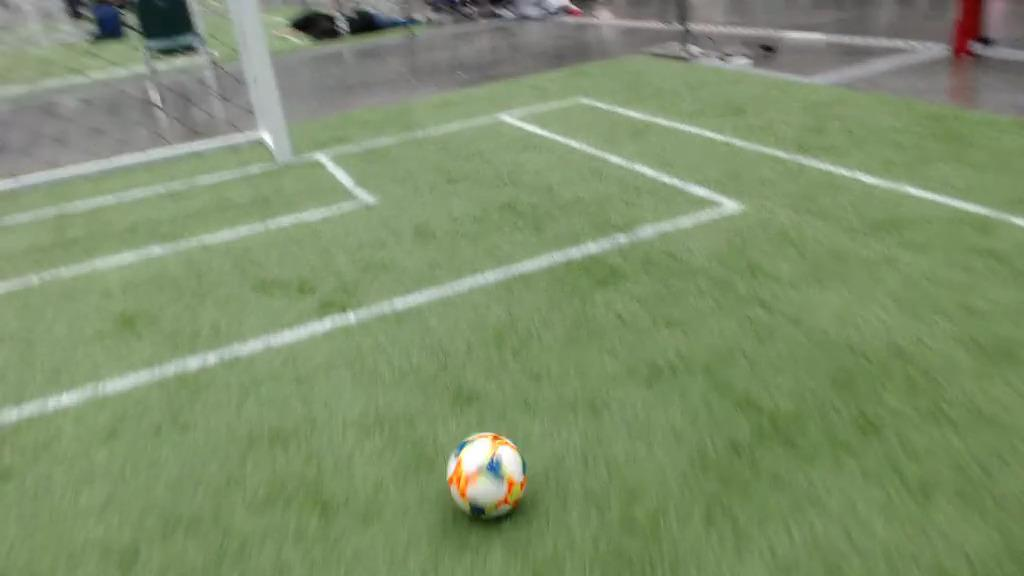ball: (446, 432, 524, 524)
